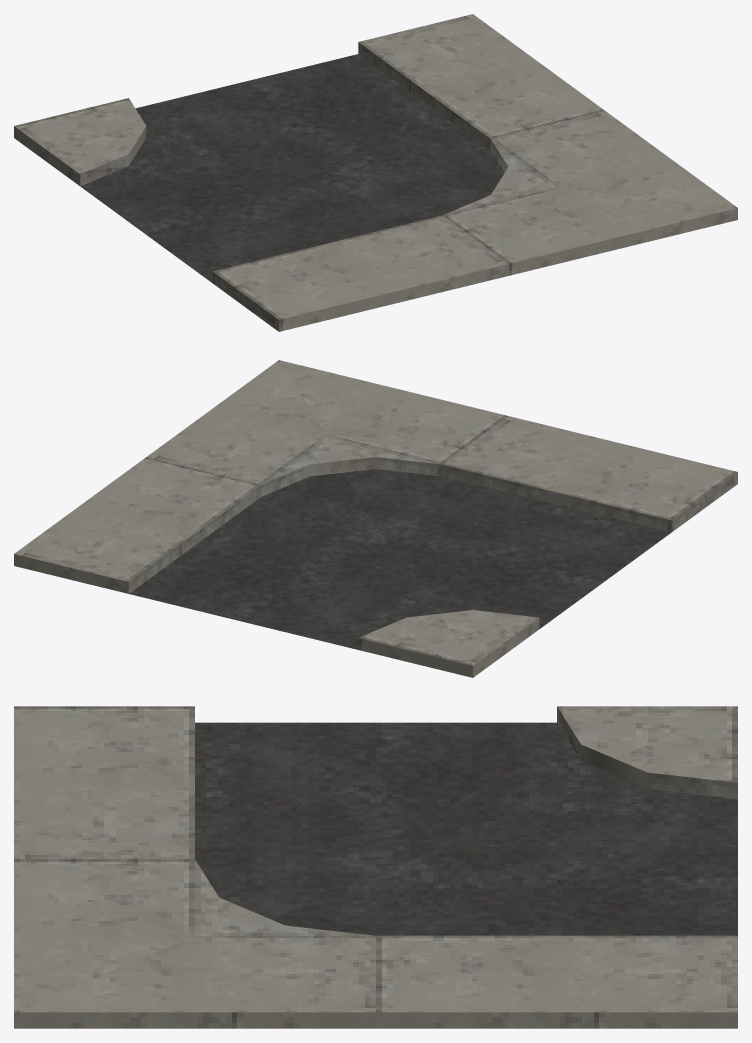
Rendered from roadAsphalt_corner.glb.
3 views of the same model, one above another, from view 1: azimuth 30°, elevation 25°; view 2: azimuth 150°, elevation 25°; view 3: azimuth 270°, elevation 25° (orthographic). The views are drawn at different scales.
Visible parts, largest first — view 1: roadAsphalt_corner; view 2: roadAsphalt_corner; view 3: roadAsphalt_corner.
Boxes of the visible parts, bbox=[...] form: roadAsphalt_corner: bbox=[14, 14, 737, 331]; roadAsphalt_corner: bbox=[14, 360, 737, 677]; roadAsphalt_corner: bbox=[14, 706, 737, 1028].
Size of the model in its own units: 2 by 0.05 by 2.
2 materials, 2 textured.
